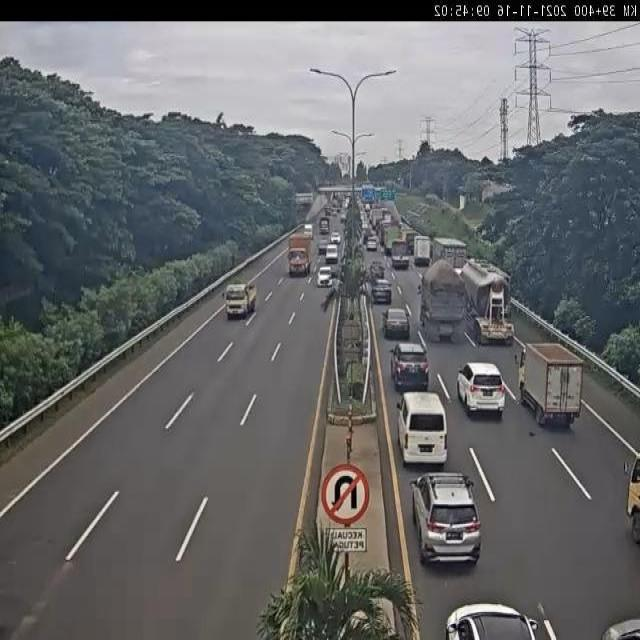Car: (410, 471, 482, 565), (443, 600, 539, 640), (456, 362, 506, 418), (388, 342, 431, 390), (382, 307, 410, 338), (370, 278, 392, 305), (316, 265, 334, 288), (369, 261, 385, 282), (325, 244, 338, 264), (318, 236, 330, 254), (303, 222, 314, 238), (366, 237, 378, 251), (331, 232, 342, 245), (339, 213, 346, 223)
Truck: (514, 342, 585, 429), (458, 257, 518, 341), (416, 258, 469, 346), (621, 448, 640, 544), (222, 282, 256, 321), (287, 230, 312, 278), (432, 237, 466, 270), (413, 235, 432, 268), (391, 238, 410, 269), (380, 223, 398, 254), (403, 231, 418, 257), (318, 216, 330, 235)
Van: (395, 389, 451, 468)
